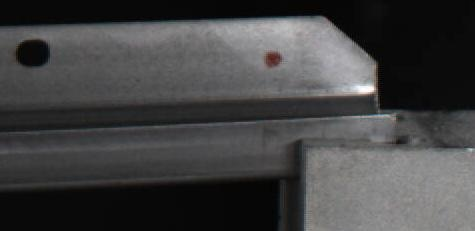cut: (241, 15, 400, 175)
holes: (14, 37, 54, 69)
